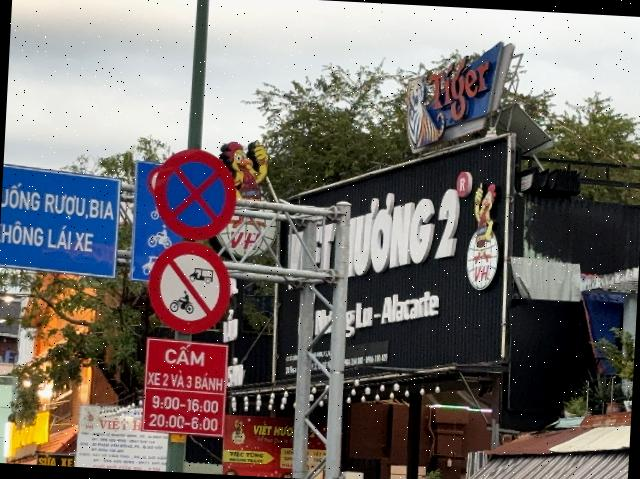cam-dung-va-do-xe: (152, 143, 236, 243)
cam-xe-2-banh-3-banh: (145, 239, 234, 337)
